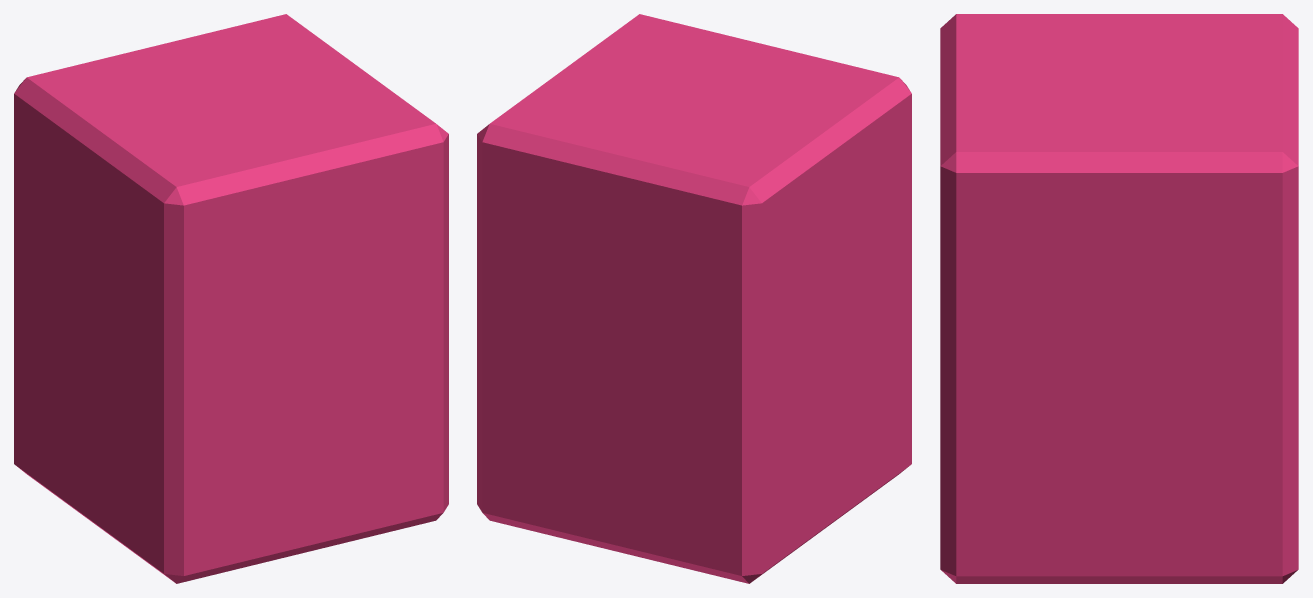
Rendered from Block tru.fbx.
3 renders of one model, left to right at view 1: azimuth 30°, elevation 25°; view 2: azimuth 150°, elevation 25°; view 3: azimuth 270°, elevation 25°, orthographic. The views are drawn at different scales.
Parts seen in each view (by area): view 1: Cube; view 2: Cube; view 3: Cube.
Part boxes in pixels (bbox=[...]): Cube: bbox=[14, 14, 448, 583]; Cube: bbox=[477, 14, 911, 583]; Cube: bbox=[940, 14, 1298, 583].
Bounding box in the file's own units: 200 × 266 × 200.
